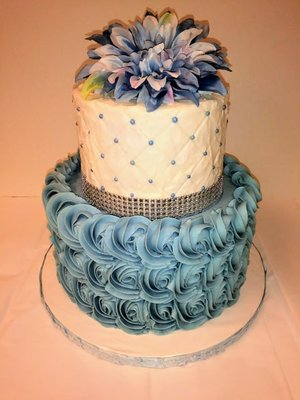sushi: (71, 13, 232, 219)
